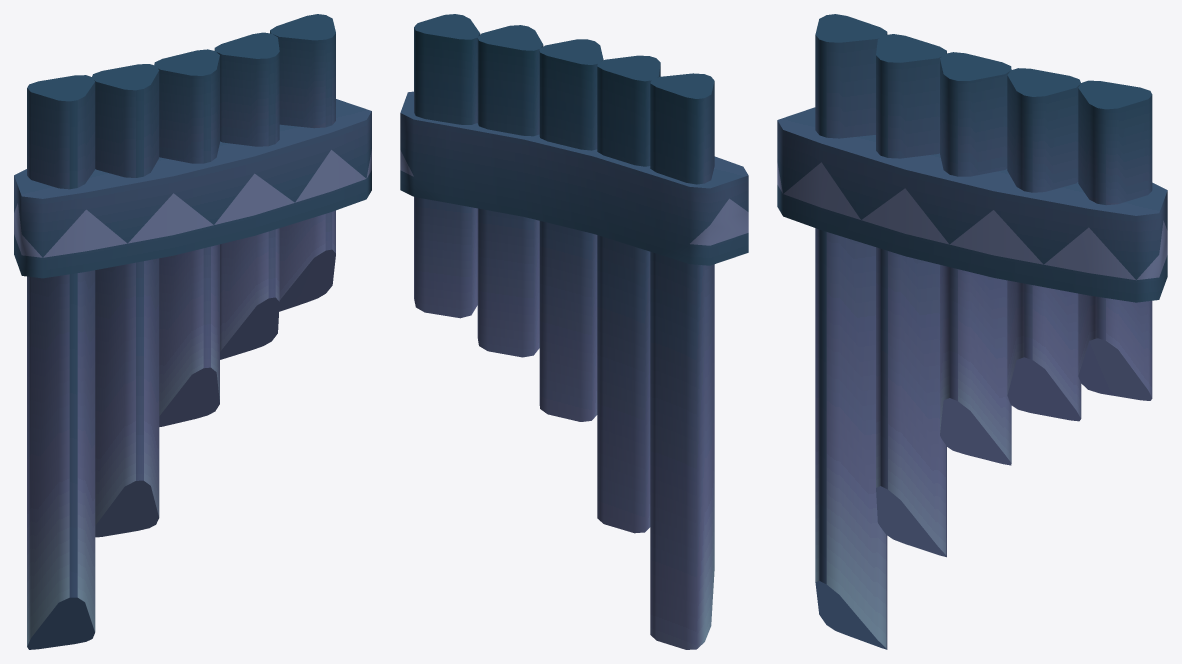
The model's file is CharSkyKid_Prop_AP03PanFlute_01.glb.
The picture shows the model from 3 angles, left to right: view 1: azimuth 30°, elevation 25°; view 2: azimuth 150°, elevation 25°; view 3: azimuth 330°, elevation 25°; orthographic projection. The views are drawn at different scales.
Parts seen in each view (by area): view 1: CharSkyKid_Prop_AP03PanFlute_01; view 2: CharSkyKid_Prop_AP03PanFlute_01; view 3: CharSkyKid_Prop_AP03PanFlute_01.
Part boxes in pixels (<box>): CharSkyKid_Prop_AP03PanFlute_01: <box>14,14,371,649</box>; CharSkyKid_Prop_AP03PanFlute_01: <box>400,14,748,649</box>; CharSkyKid_Prop_AP03PanFlute_01: <box>777,14,1167,649</box>.
Bounding box in the file's own units: 2.39 × 3.71 × 0.526.
1 material, 1 textured.
